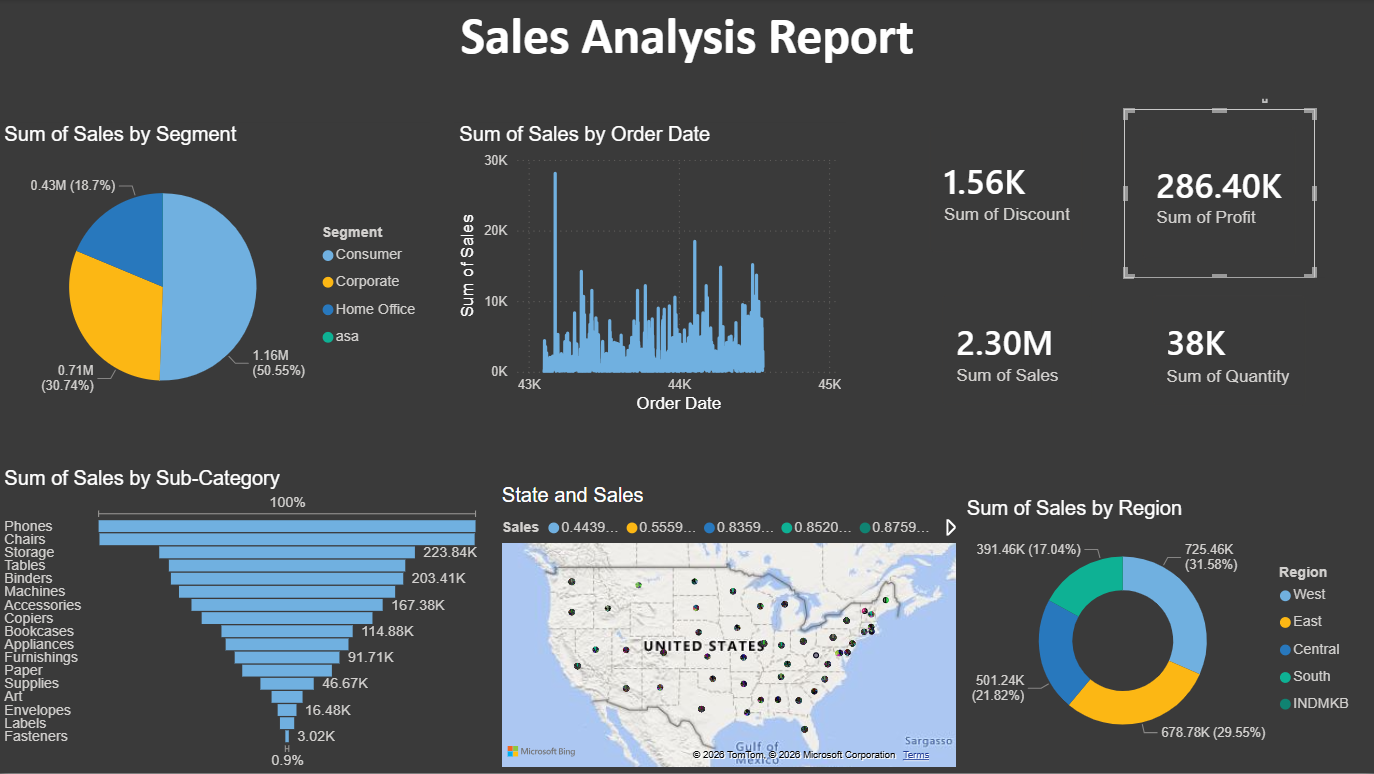

The page's visual inventory and layout, read from the dashboard file:
{"tool":"powerbi","page":{"name":"Page 1","canvas":[1280,720],"ordinal":0},"visuals":[{"type":"donutChart","fields":{"Category":["Orders.Region"],"Y":["Sum(Orders.Sales)"]},"box":[895.4,462.8,374.4,247.7],"z":0},{"type":"funnel","fields":{"Category":["Orders.Sub-Category"],"Y":["Sum(Orders.Sales)"]},"box":[0,434.9,453.5,286],"z":1},{"type":"map","fields":{"Category":["Orders.State"],"Series":["Orders.Sales"]},"box":[462.8,451.2,432.6,268.6],"z":2},{"type":"pieChart","fields":{"Category":["Orders.Segment"],"Y":["Sum(Orders.Sales)"]},"box":[0,115.1,401.2,284.9],"z":3},{"type":"lineChart","fields":{"Category":["Orders.Order Date"],"Y":["Sum(Orders.Sales)"]},"box":[423.3,115.1,365.1,274.4],"z":4},{"type":"cardVisual","fields":{"Data":["Sum(Orders.Sales)"]},"box":[860.5,258.1,173.3,137.2],"z":5},{"type":"cardVisual","fields":{"Data":["Sum(Orders.Discount)"]},"box":[848.8,102.3,176.7,150],"z":6},{"type":"cardVisual","fields":{"Data":["Sum(Orders.Profit)"]},"box":[1046.5,102.3,177.9,157],"z":7},{"type":"cardVisual","fields":{"Data":["Sum(Orders.Quantity)"]},"box":[1055.8,259.3,177.9,136],"z":8},{"type":"textbox","box":[0,0,1280.2,93],"z":9}]}

Visuals, with their boxes in screenshot pixels (x1, y1, x2, y2), scaled from the page's 1280x720 canvas onto the 1374x774 screenshot:
donutChart - Orders.Region x Sum(Orders.Sales): box=[961, 498, 1363, 764]
funnel - Orders.Sub-Category x Sum(Orders.Sales): box=[0, 468, 487, 773]
map - Orders.State x Orders.Sales: box=[497, 485, 961, 773]
pieChart - Orders.Segment x Sum(Orders.Sales): box=[0, 124, 431, 430]
lineChart - Orders.Order Date x Sum(Orders.Sales): box=[454, 124, 846, 419]
cardVisual - Sum(Orders.Sales): box=[924, 277, 1110, 425]
cardVisual - Sum(Orders.Discount): box=[911, 110, 1101, 271]
cardVisual - Sum(Orders.Profit): box=[1123, 110, 1314, 279]
cardVisual - Sum(Orders.Quantity): box=[1133, 279, 1324, 425]
textbox: box=[0, 0, 1373, 100]
